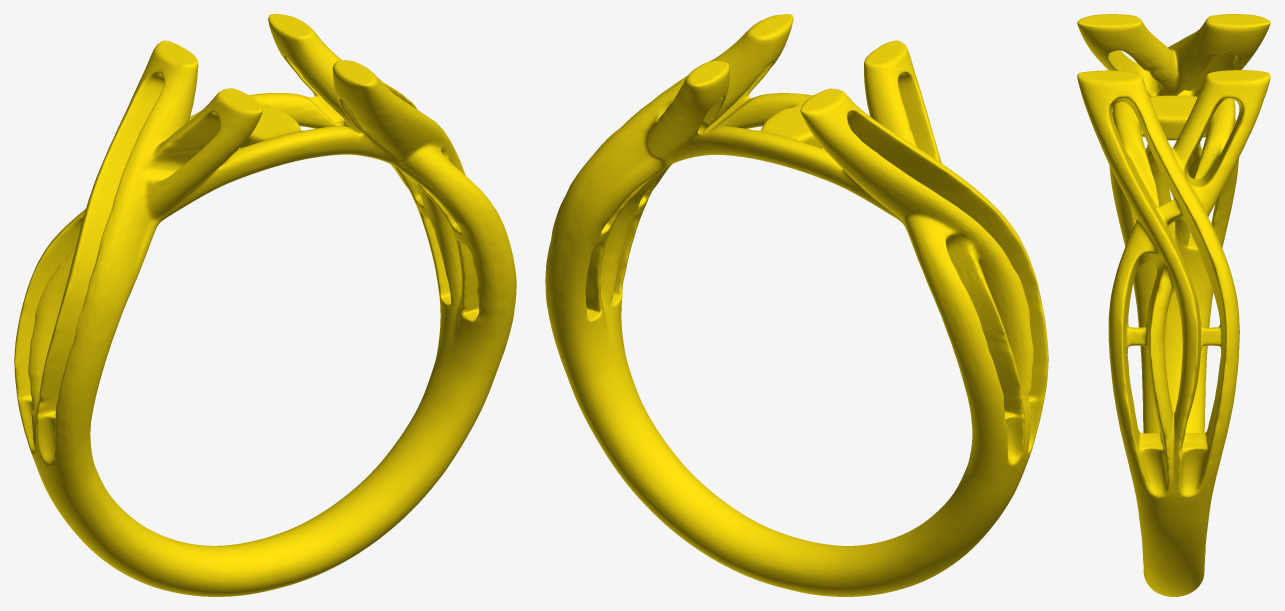
File: Shank_Twist_Channel_A_Single Halo_Band.glb
3 views of the same model, side by side, from view 1: azimuth 30°, elevation 25°; view 2: azimuth 150°, elevation 25°; view 3: azimuth 270°, elevation 25° (orthographic).
Size of the model in its own units: 0.021 by 0.0227 by 0.00764.
